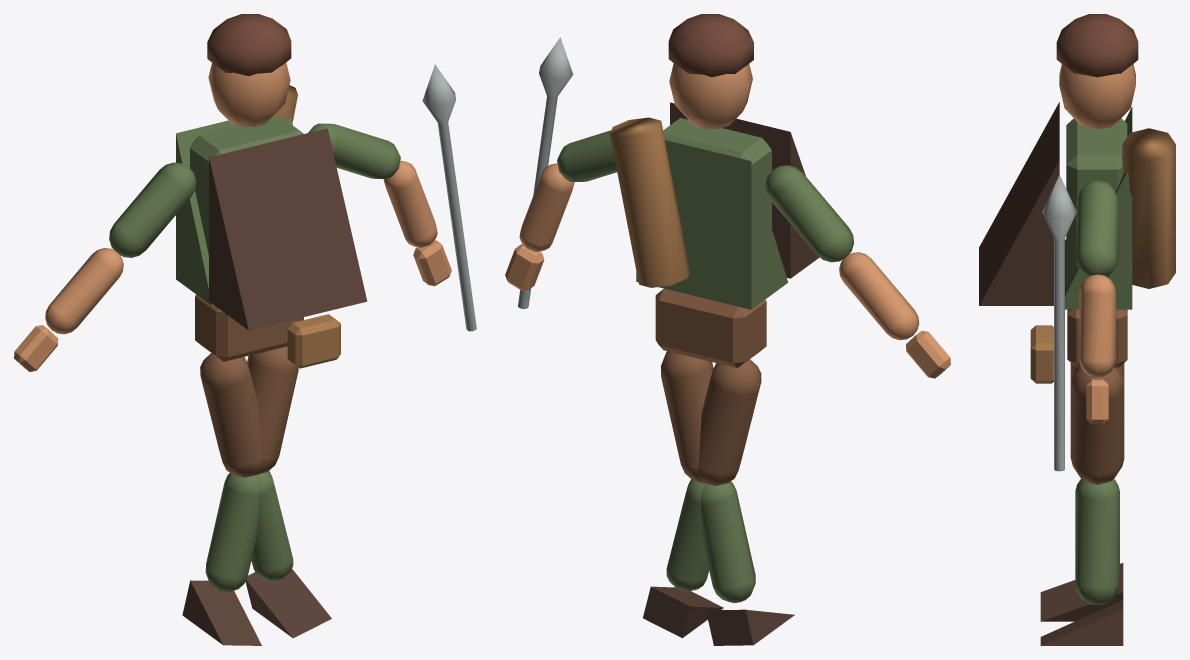
Rendered from adventurer.rustic.glb.
3 views of the same model, side by side, from view 1: azimuth 30°, elevation 25°; view 2: azimuth 150°, elevation 25°; view 3: azimuth 270°, elevation 25° (orthographic).
Visible parts, largest first — view 1: accessory.body, thigh.left, shin.right, upper-arm.left, hair, thigh.right, head, tunic, accessory.main-hand, forearm.left, pelvis, foot.left (+8 smaller); view 2: tunic, accessory.back, pelvis, thigh.left, shin.right, upper-arm.left, hair, thigh.right, head, forearm.left, accessory.body, torso (+8 smaller); view 3: accessory.body, accessory.back, shin.left, thigh.right, torso, hair, accessory.main-hand, upper-arm.right, head, forearm.right, tunic, foot.left (+4 smaller).
Part boxes in pixels (x1,y1,x2,y2): accessory.body: (209,128,367,330); thigh.left: (200,353,261,477); shin.right: (205,473,259,592); upper-arm.left: (109,162,196,257); hair: (207,14,291,76); thigh.right: (247,346,298,474); head: (208,62,290,126); tunic: (176,116,292,305); accessory.main-hand: (422,64,476,331); forearm.left: (45,248,123,334); pelvis: (195,294,303,361); foot.left: (245,569,331,638); tunic: (636,140,787,309); accessory.back: (610,117,689,287); pelvis: (655,288,766,367); thigh.left: (698,359,761,485); shin.right: (701,481,755,603); upper-arm.left: (765,165,853,262); hair: (668,14,753,77); thigh.right: (660,351,713,483); head: (669,63,752,129); forearm.left: (839,252,919,340); accessory.body: (670,102,819,278); torso: (663,118,771,228); accessory.body: (979,102,1059,305); accessory.back: (1122,128,1175,288); shin.left: (1075,479,1119,605); thigh.right: (1070,367,1124,484); torso: (1066,118,1127,283); hair: (1056,14,1138,77); accessory.main-hand: (1042,175,1076,471); upper-arm.right: (1076,180,1118,277); head: (1059,64,1135,129); forearm.right: (1079,274,1115,377); tunic: (1065,106,1132,309); foot.left: (1040,600,1123,645).
Size of the model in its own units: 2.3 by 3.01 by 0.88.
